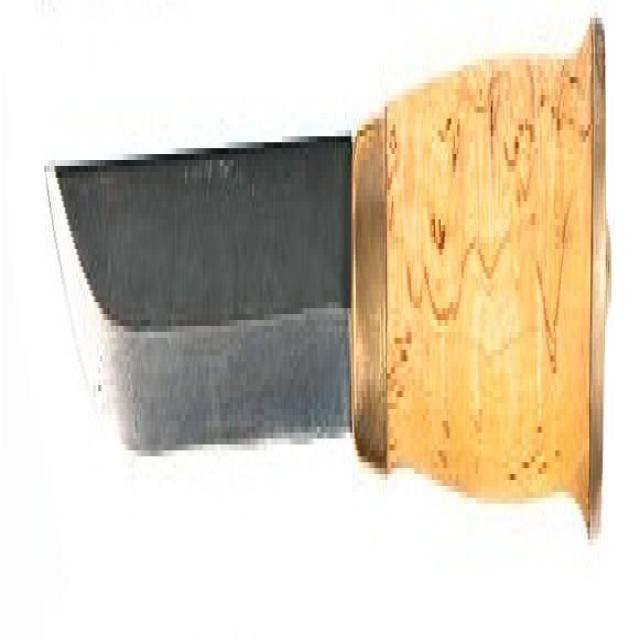knife: (40, 9, 617, 581)
